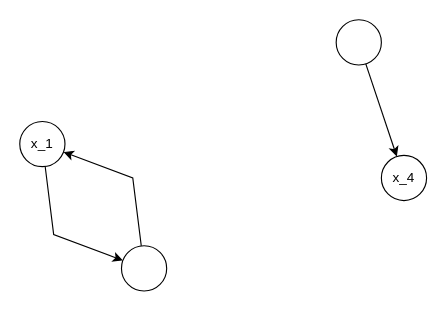
This 446x311 diagram has some shape labels left out. Here are the shapes that lost their labels. From the top down, the centre of each, then its label:
pixel 358 42: x_2
pixel 143 268: x_3
